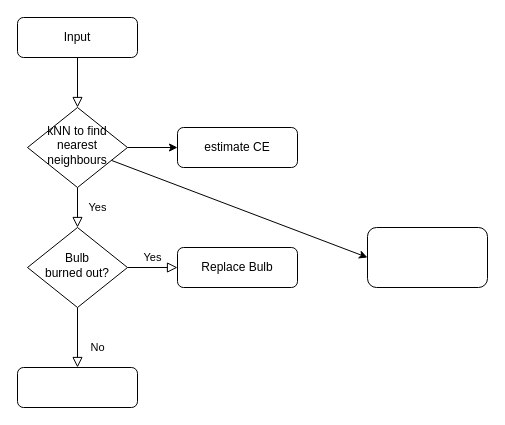
This 505x425 diagram has some shape labels left out. Here are the shapes that lost their labels. From the top down, the box of each, then its label:
(366, 226, 488, 288): estimate MI
(16, 366, 138, 408): Repair Lamp
